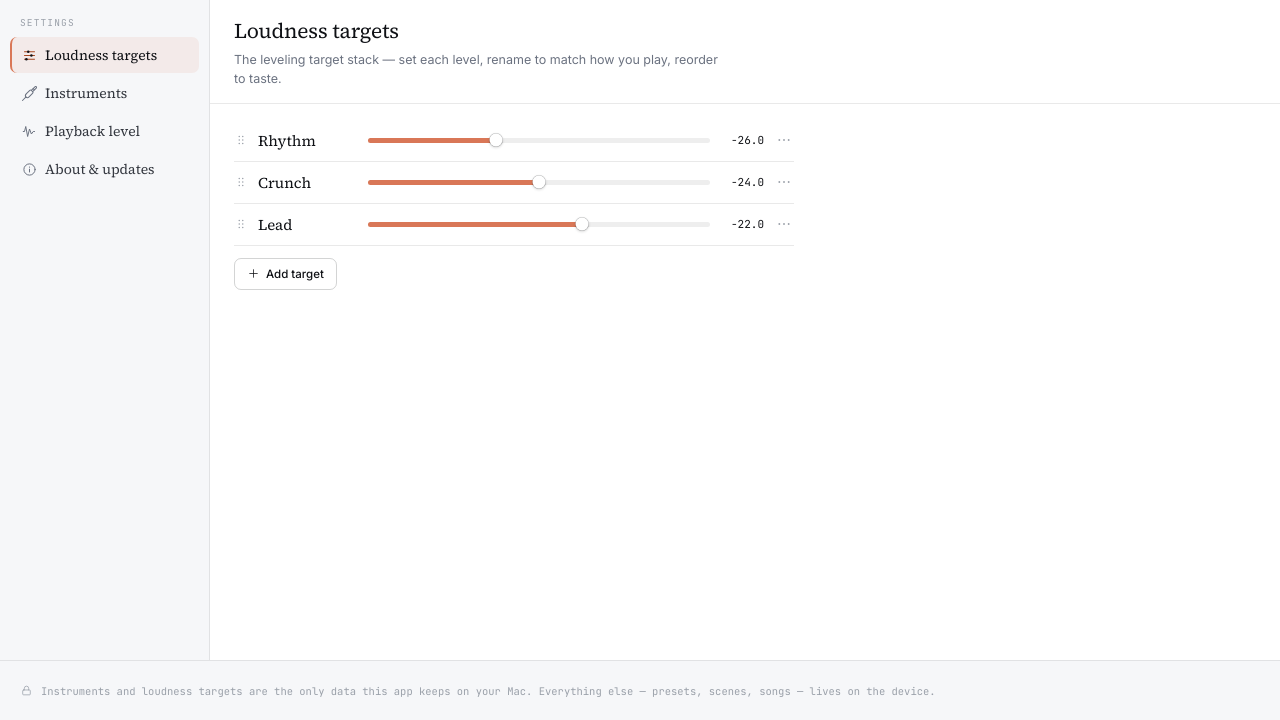
Test case: SettingsView — loudness targets › adds a target (rename mode + persists via save_targets)
The width and height of the screenshot is (1280, 720).
Expected: the text "Rhythm" is shown, [258,130,316,150]
Click the button "Add target": (285, 274) [234,258,337,290]
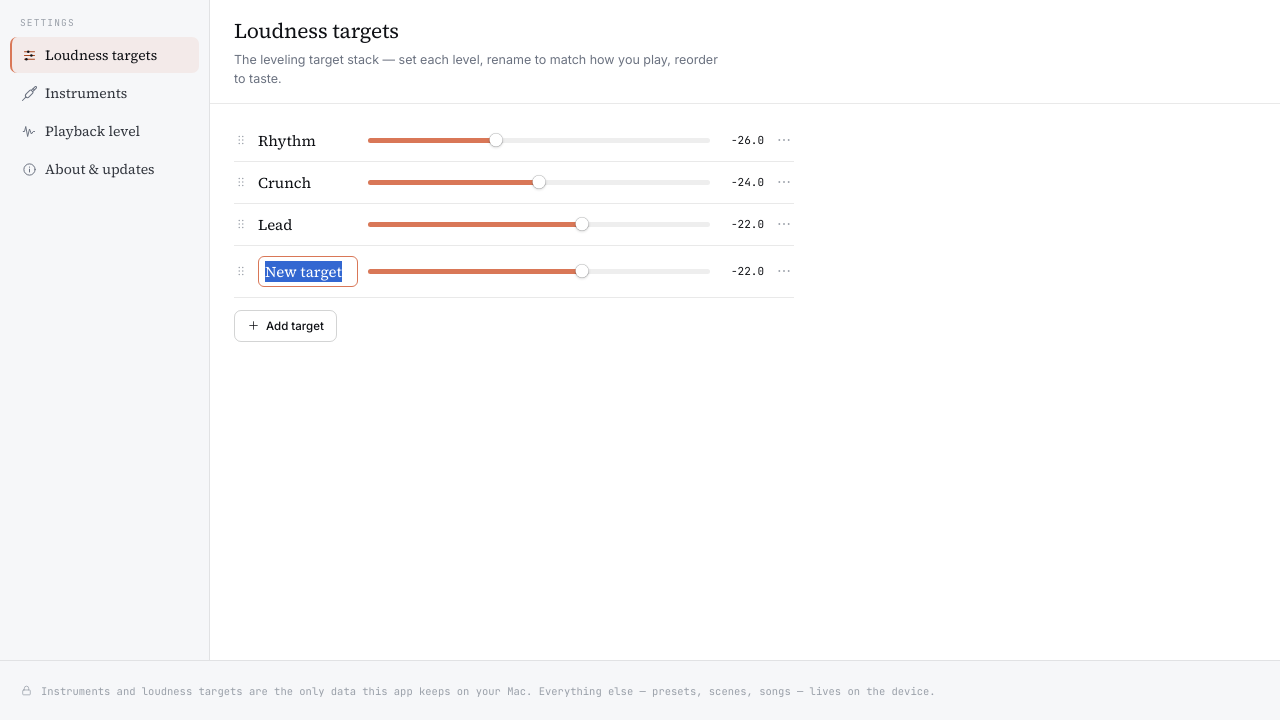
Expected: the field showing "New target" is shown, [258,256,358,286]
